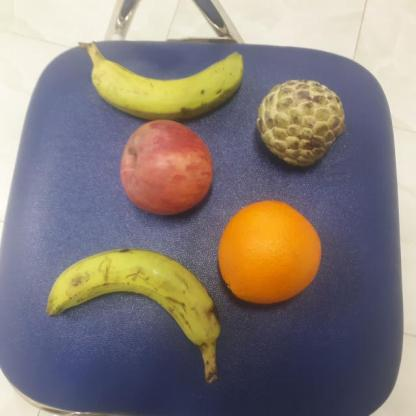annona: (256, 78, 347, 167)
apple: (119, 118, 213, 215)
banana: (46, 245, 223, 343), (88, 52, 248, 117)
pear: (215, 199, 323, 305)
